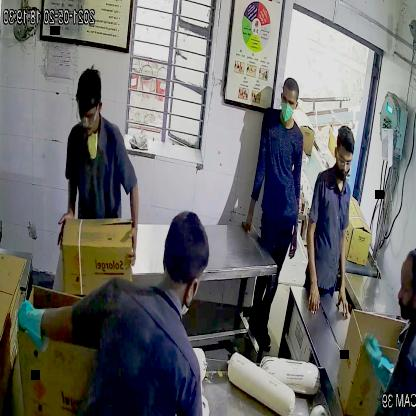goggles: (76, 101, 102, 126), (332, 149, 355, 171)
no_goggles: (276, 94, 300, 111)
